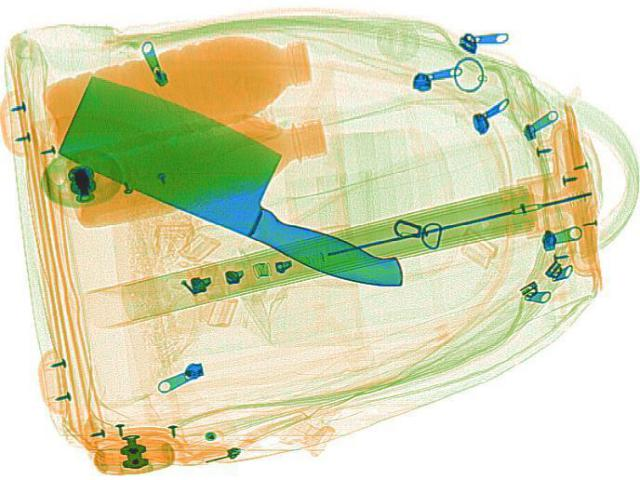Knife: (28, 67, 458, 298)
